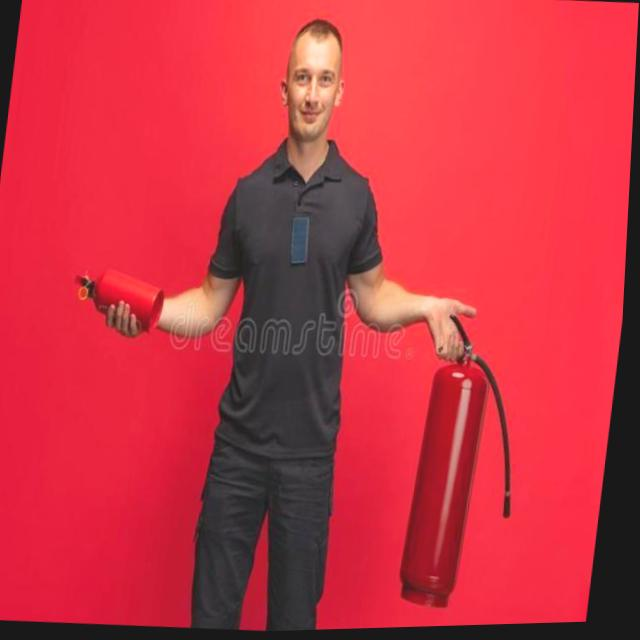FireExtinguisher: (399, 302, 541, 621), (63, 255, 177, 345)
